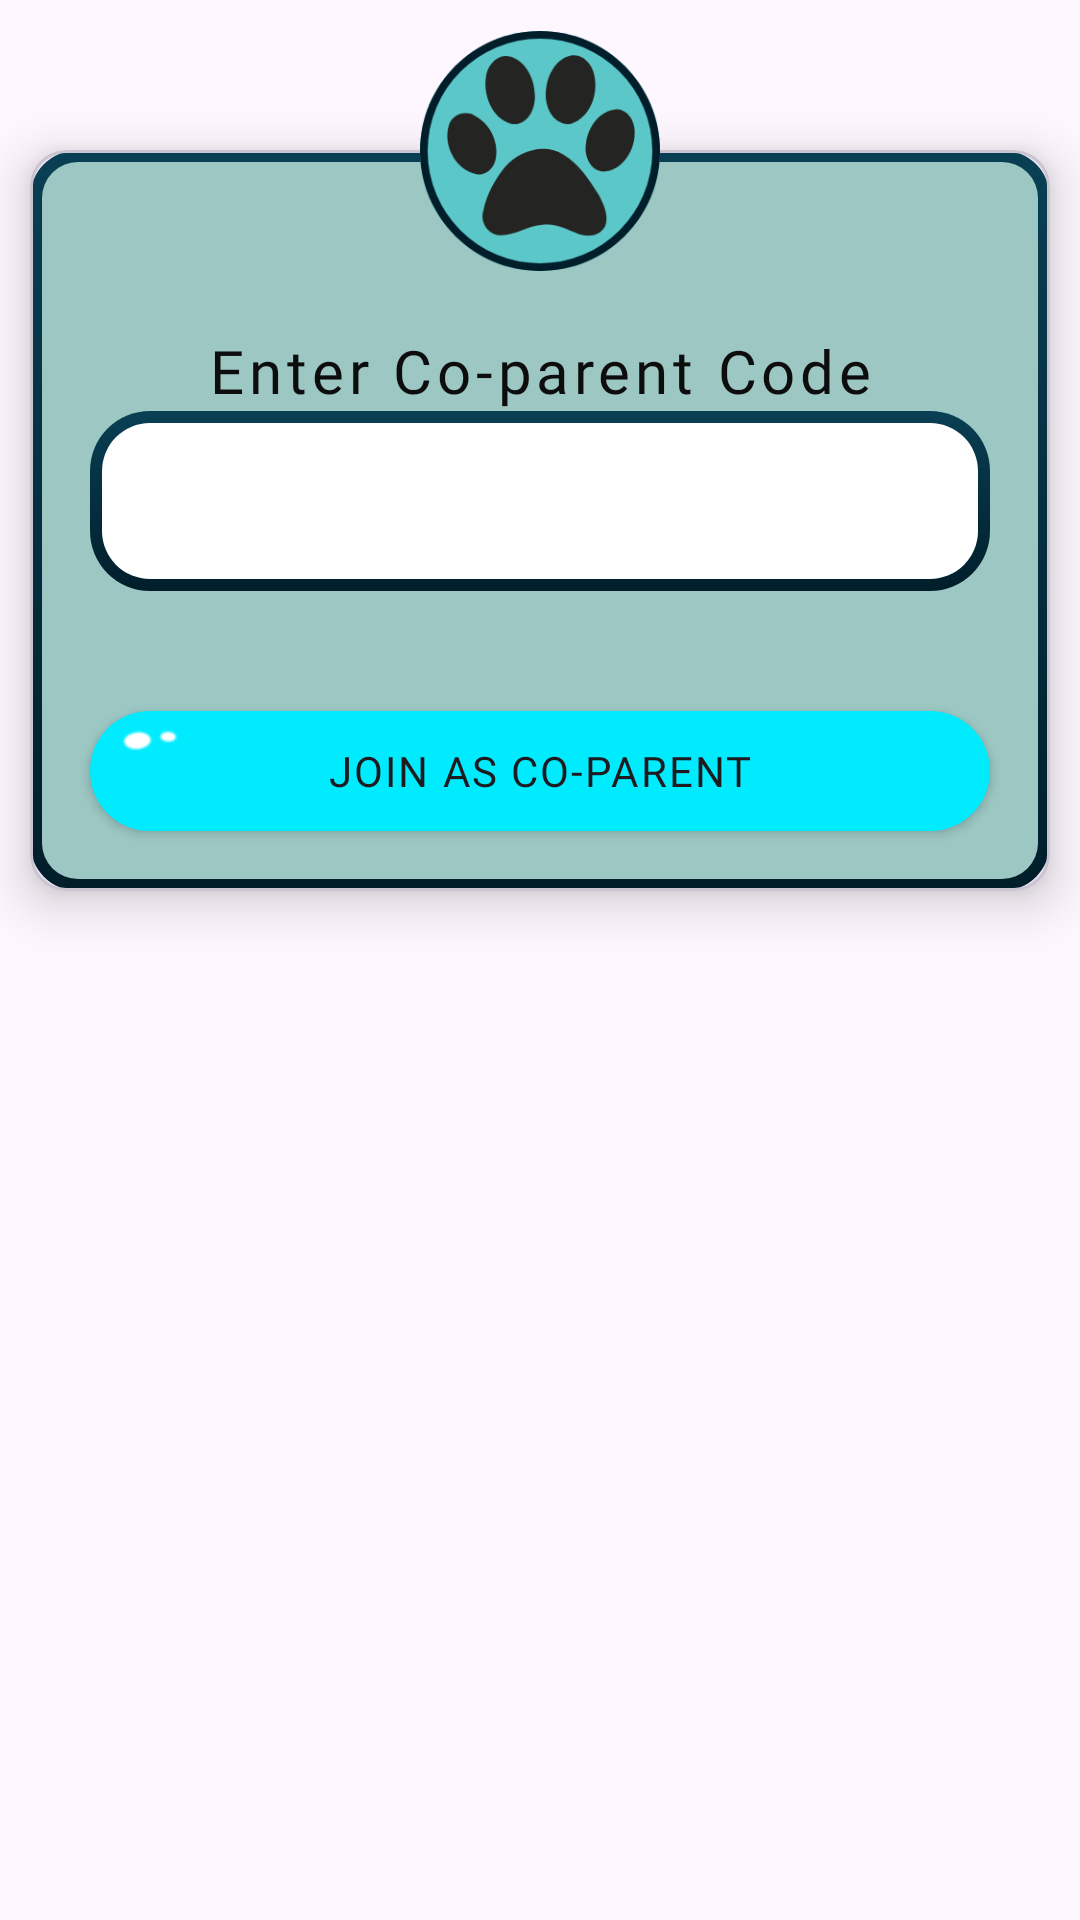

Icons on this 1080×1920 Android screen, each with the point to tap as point (x, y):
pawprint: point (540, 151)
whitedots: point (150, 740)
